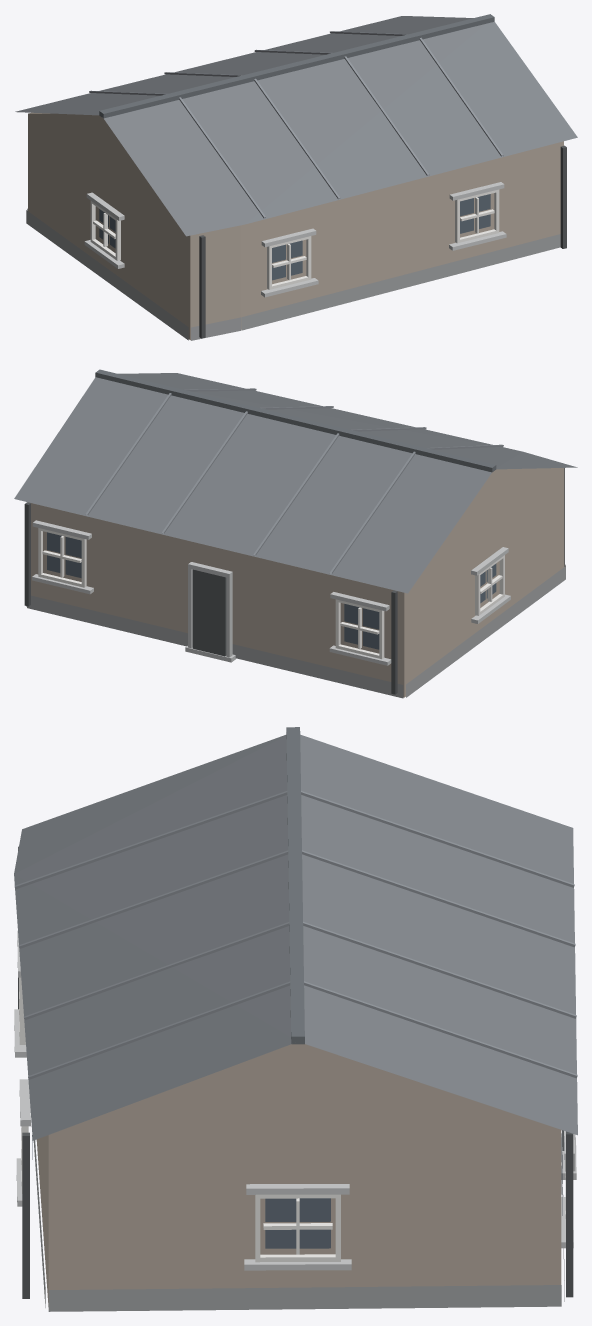
3 renders of one model, top to bottom at view 1: azimuth 30°, elevation 25°; view 2: azimuth 150°, elevation 25°; view 3: azimuth 270°, elevation 25°, orthographic. The views are drawn at different scales.
Visible parts, largest first — view 1: slate, harl_brown, plinth, slate_dk, frame, slate_lt, stone_band, pipe; view 2: slate, harl_brown, plinth, stone_band, slate_dk, frame, door_dark, slate_lt, pipe; view 3: slate, harl_brown, plinth, slate_lt, slate_dk, stone_band, frame, pipe, window_glass_024, window_glass_022.
Boxes of the visible parts, x1=… form: slate: x1=15, y1=16, x2=577, y2=236; harl_brown: x1=28, y1=112, x2=563, y2=340; plinth: x1=26, y1=208, x2=560, y2=340; slate_dk: x1=99, y1=14, x2=494, y2=118; frame: x1=90, y1=189, x2=499, y2=289; slate_lt: x1=89, y1=31, x2=503, y2=218; stone_band: x1=84, y1=182, x2=506, y2=297; pipe: x1=199, y1=145, x2=566, y2=338; slate: x1=14, y1=373, x2=577, y2=593; harl_brown: x1=28, y1=468, x2=564, y2=697; plinth: x1=26, y1=564, x2=565, y2=698; stone_band: x1=32, y1=520, x2=510, y2=665; slate_dk: x1=95, y1=369, x2=496, y2=472; frame: x1=38, y1=528, x2=504, y2=659; door_dark: x1=192, y1=569, x2=226, y2=656; slate_lt: x1=85, y1=388, x2=503, y2=574; pipe: x1=24, y1=468, x2=564, y2=694; slate: x1=14, y1=734, x2=577, y2=1140; harl_brown: x1=36, y1=1044, x2=561, y2=1306; plinth: x1=33, y1=1130, x2=564, y2=1311; slate_lt: x1=14, y1=790, x2=577, y2=1079; slate_dk: x1=286, y1=727, x2=304, y2=1044; stone_band: x1=14, y1=930, x2=576, y2=1270; frame: x1=19, y1=977, x2=565, y2=1262; pipe: x1=18, y1=846, x2=573, y2=1298; window_glass_024: x1=299, y1=1198, x2=330, y2=1221; window_glass_022: x1=265, y1=1198, x2=296, y2=1221.
Size of the model in its own units: 10.82 by 4.52 by 8.24.
